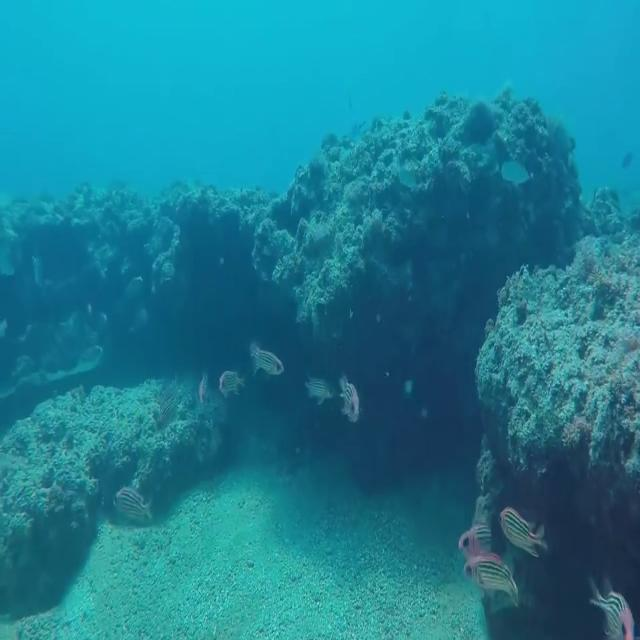Asker Baligi: (456, 546, 518, 615), (242, 332, 288, 394), (335, 376, 369, 436)
